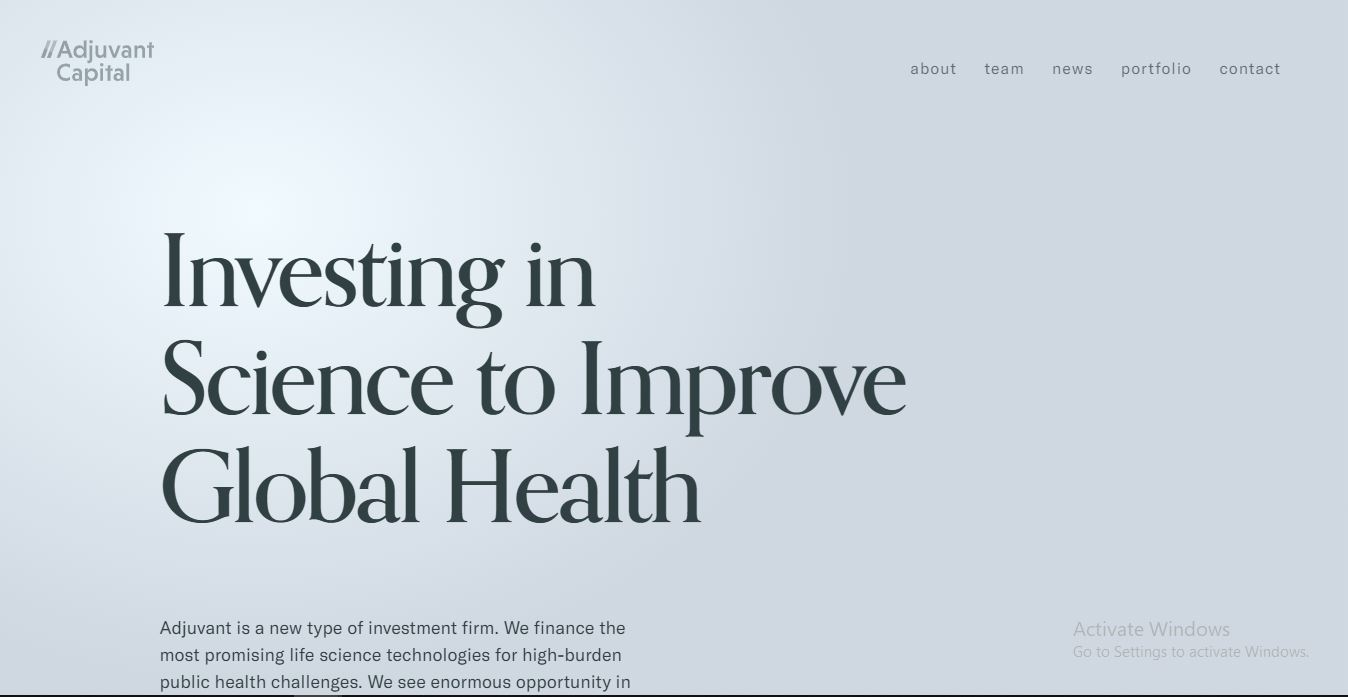Menu Bar: (895, 42, 1298, 86)
